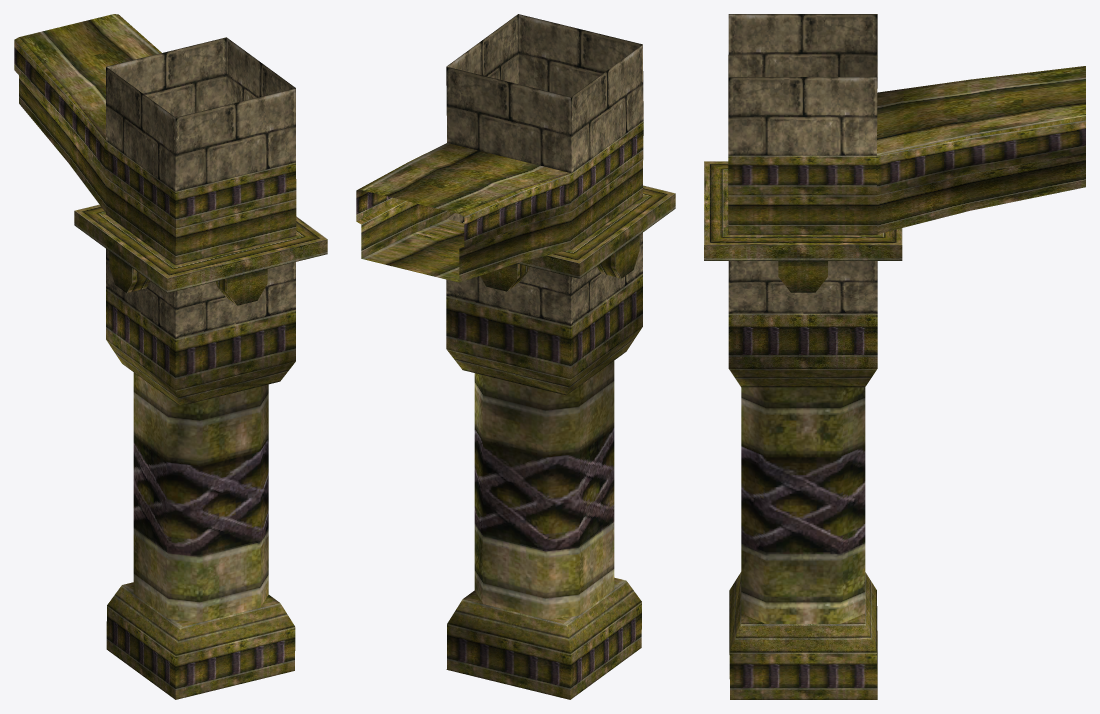
File: OVERHILL_A_01_OBJECT192.fbx
The picture shows the model from 3 angles, left to right: view 1: azimuth 30°, elevation 25°; view 2: azimuth 150°, elevation 25°; view 3: azimuth 270°, elevation 25°; orthographic projection. The views are drawn at different scales.
Parts seen in each view (by area): view 1: OVERHILL_A_01_OBJECT192; view 2: OVERHILL_A_01_OBJECT192; view 3: OVERHILL_A_01_OBJECT192.
Part boxes in pixels (x1,y1,x2,y2): OVERHILL_A_01_OBJECT192: [14, 14, 327, 699]; OVERHILL_A_01_OBJECT192: [356, 14, 675, 699]; OVERHILL_A_01_OBJECT192: [704, 14, 1085, 699].
Size of the model in its own units: 16511 by 57259 by 31793.
6 materials, 6 textured.
